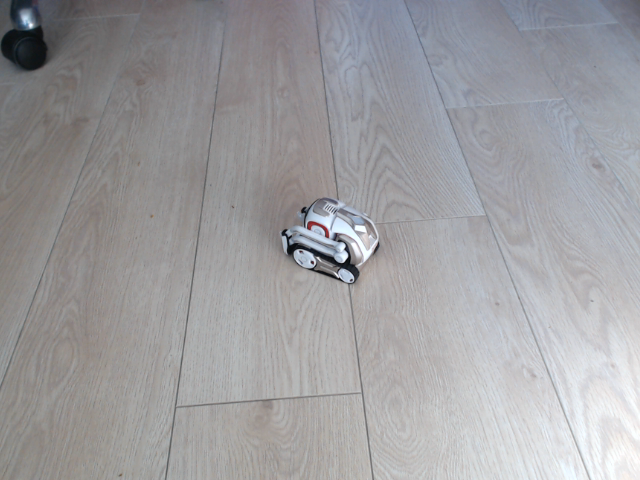cozmo: (278, 192, 385, 297)
